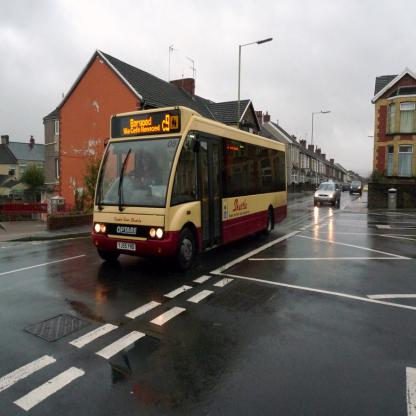Bus: (92, 103, 288, 266)
